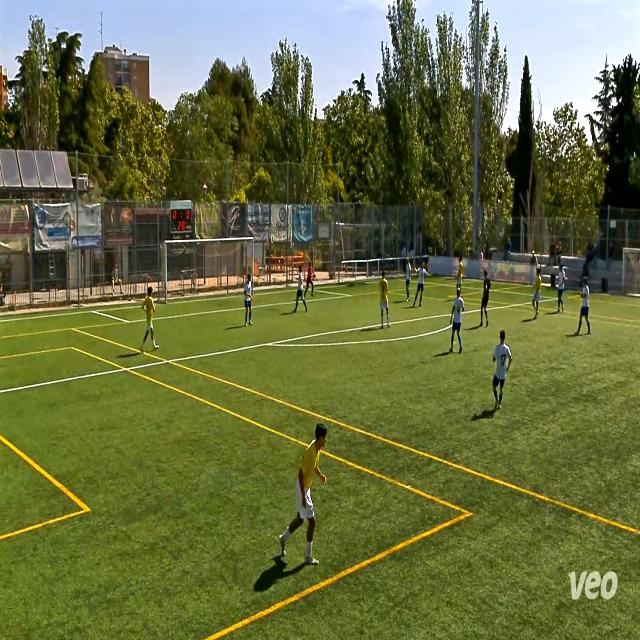bigarea_top_outter: (396, 276, 404, 284)
bottom_arc_area_intersection: (263, 338, 275, 354)
smallarea_bottom_inner: (120, 311, 135, 334)
smallarea_bottom_outter: (88, 305, 102, 318)
smallarea_top_inner: (346, 287, 357, 305)
